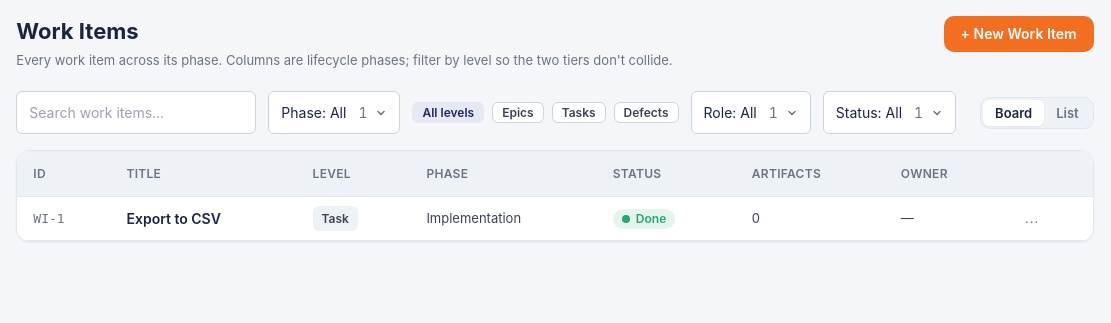
the list view's row menu › offers no Cancel on a row that is already finished or abandoned
Click the button named "Actions for WI-1".
click(1032, 218)  # box x1=1017 y1=210 x2=1047 y2=227
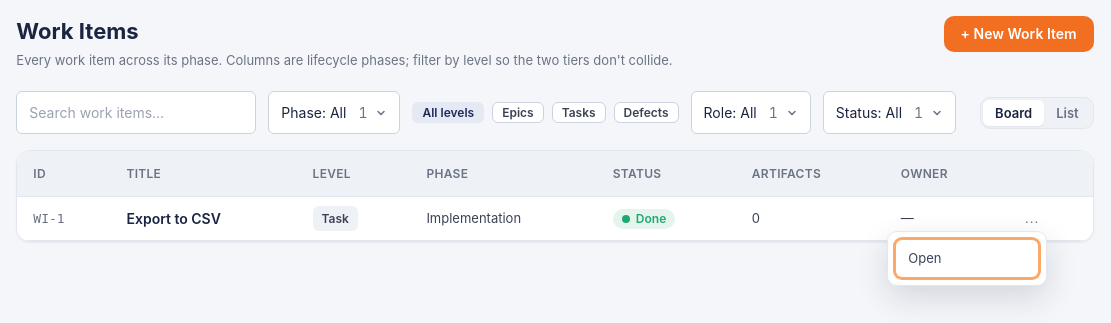
Expected: the menu item "Open" is shown, x1=896 y1=240 x2=1038 y2=277
